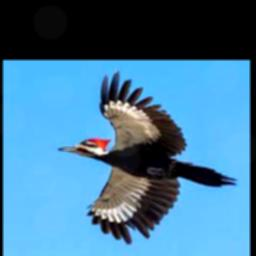Woodpecker: (57, 69, 238, 245)
